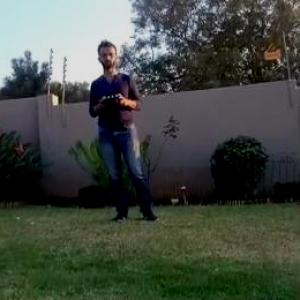follow: (88, 38, 167, 231)
